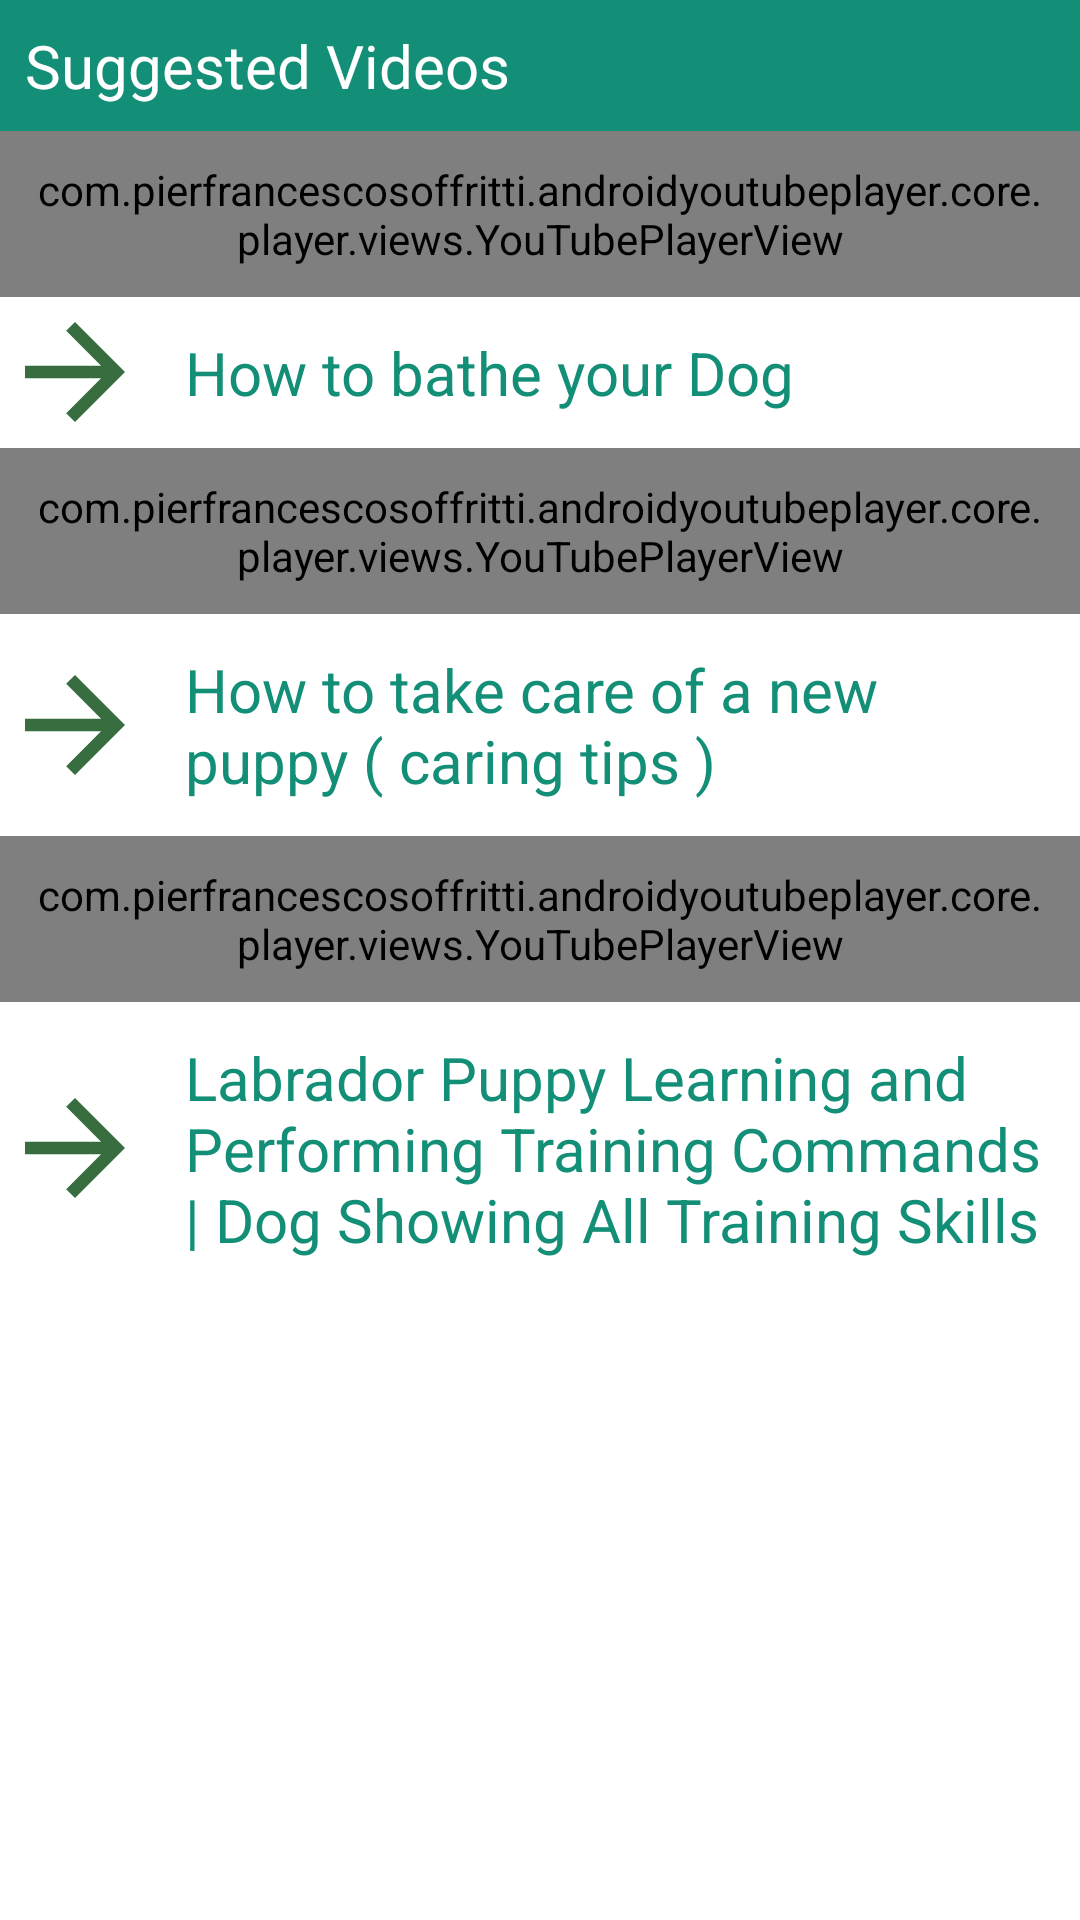

Point at icon controls on the screen. Image size 1080px×1920px, points as (x=x, y=y).
arrow forward: (x=75, y=372), (x=75, y=725), (x=75, y=1148)
